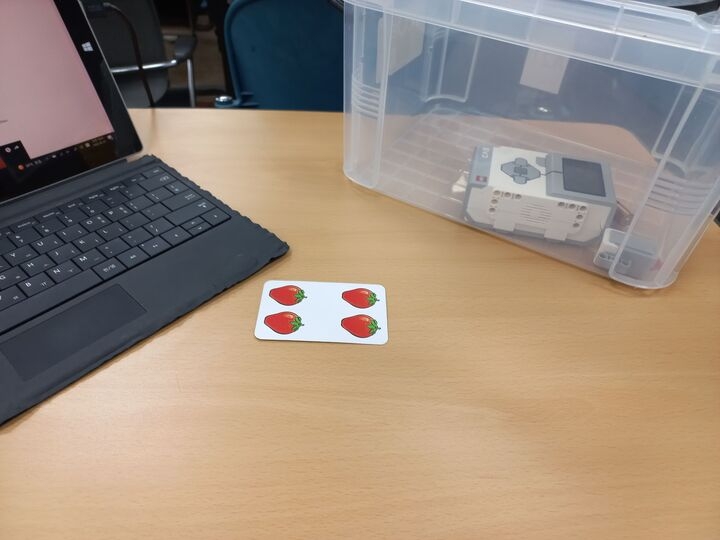strawberry4: (254, 277, 390, 345)
